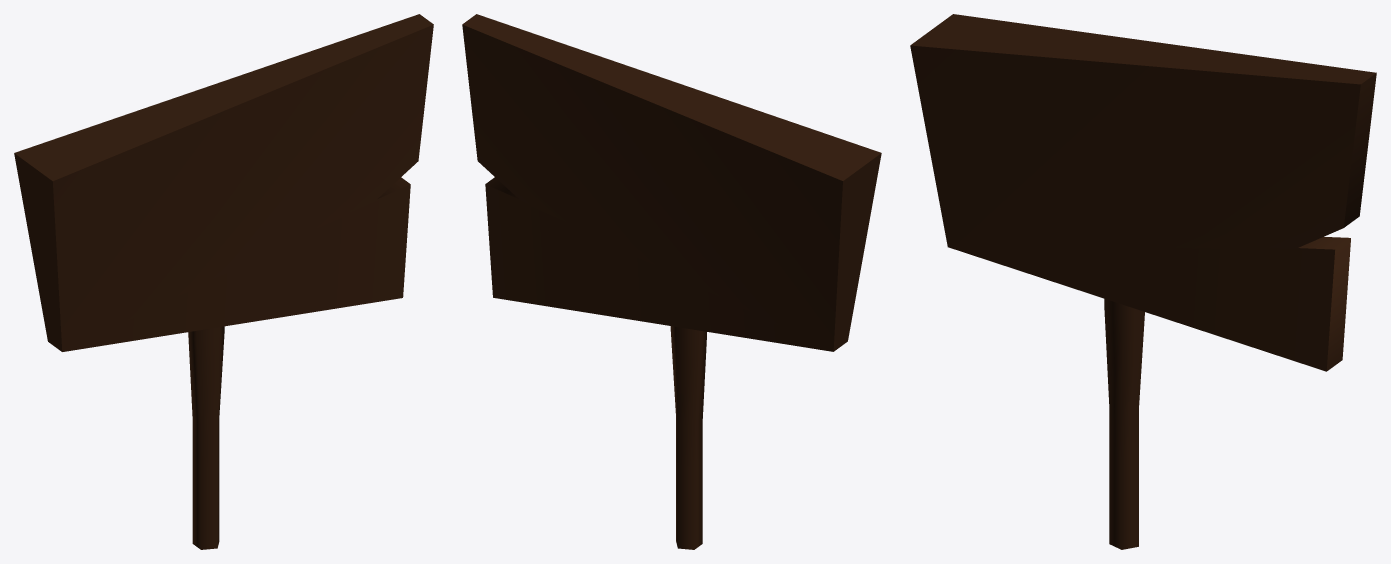
File: pancarte.FBX
3 renders of one model, left to right at view 1: azimuth 30°, elevation 25°; view 2: azimuth 150°, elevation 25°; view 3: azimuth 330°, elevation 25°, orthographic. The views are drawn at different scales.
Parts seen in each view (by area): view 1: Boîte001, Cylindre001; view 2: Boîte001, Cylindre001; view 3: Boîte001, Cylindre001.
Part boxes in pixels (x1=…): Boîte001: x1=14, y1=14, x2=433, y2=351; Cylindre001: x1=188, y1=326, x2=224, y2=549; Boîte001: x1=462, y1=14, x2=881, y2=351; Cylindre001: x1=670, y1=326, x2=706, y2=549; Boîte001: x1=910, y1=14, x2=1376, y2=371; Cylindre001: x1=1104, y1=298, x2=1144, y2=549.
Size of the model in its own units: 201 by 230 by 34.23.
